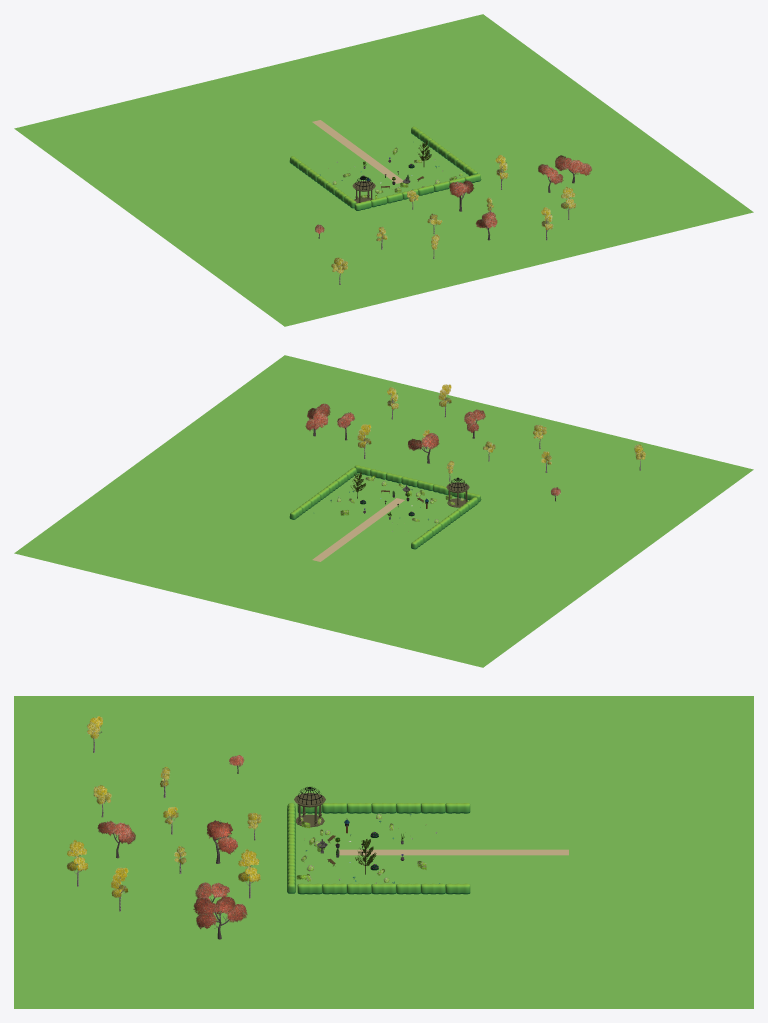
File: env_garden.glb
3 views of the same model, one above another, from view 1: azimuth 30°, elevation 25°; view 2: azimuth 150°, elevation 25°; view 3: azimuth 270°, elevation 25° (orthographic). The views are drawn at different scales.
Visible parts, largest first — view 1: ground, path; view 2: ground, path; view 3: ground, path, MapleTree_3, BirchTree_2 (×2), Gazebo1, MapleTree_1, MapleTree_5.
Boxes of the visible parts, bbox=[...] form: ground: bbox=[14, 14, 753, 326]; path: bbox=[312, 120, 402, 183]; ground: bbox=[14, 355, 753, 667]; path: bbox=[312, 498, 404, 561]; ground: bbox=[14, 696, 753, 1008]; path: bbox=[339, 849, 568, 855]; MapleTree_3: bbox=[193, 896, 247, 939]; BirchTree_2 (×2): bbox=[66, 840, 260, 898]; Gazebo1: bbox=[294, 787, 325, 827]; MapleTree_1: bbox=[207, 820, 237, 863]; MapleTree_5: bbox=[97, 821, 135, 858].
Size of the model in its own units: 120 by 8.53 by 120.
33 materials, 7 textured.
